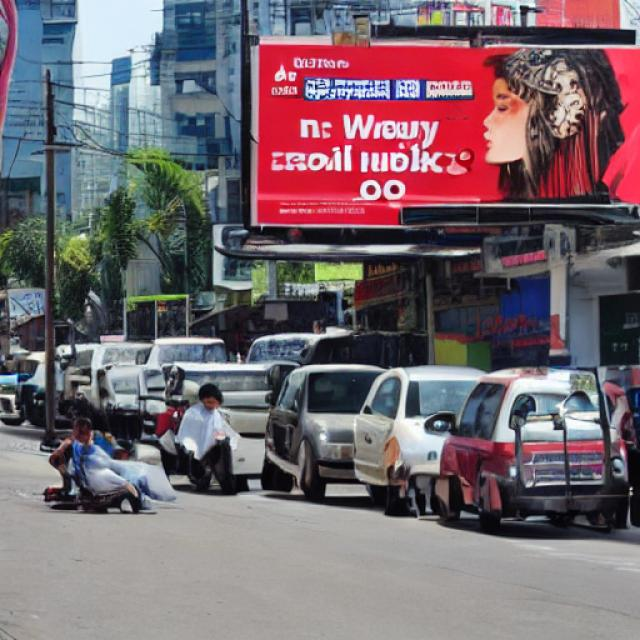Billboard: (243, 28, 640, 236)
